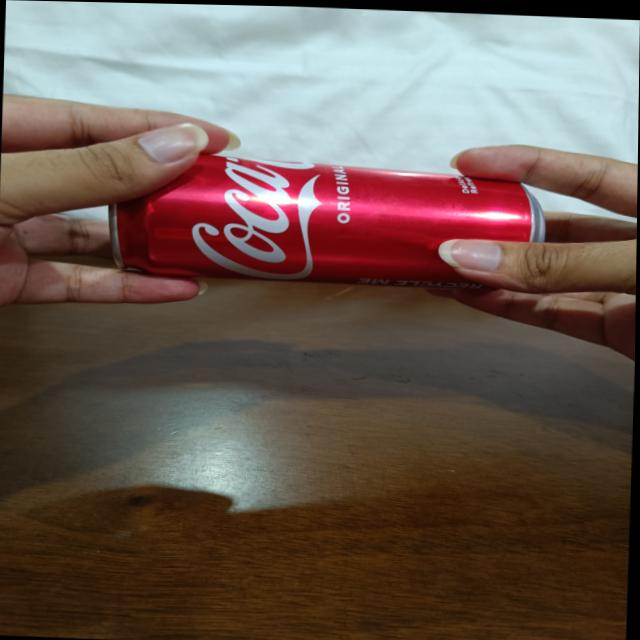coke: (107, 156, 545, 290)
